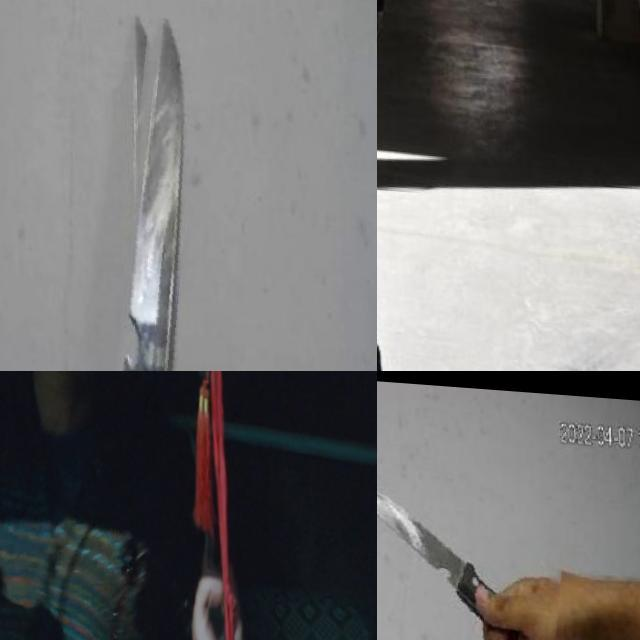-: (103, 9, 220, 371), (377, 467, 566, 640), (377, 153, 398, 277)
gun-knife-thesis - v11 Yolov5 augmented: (0, 438, 61, 584)
